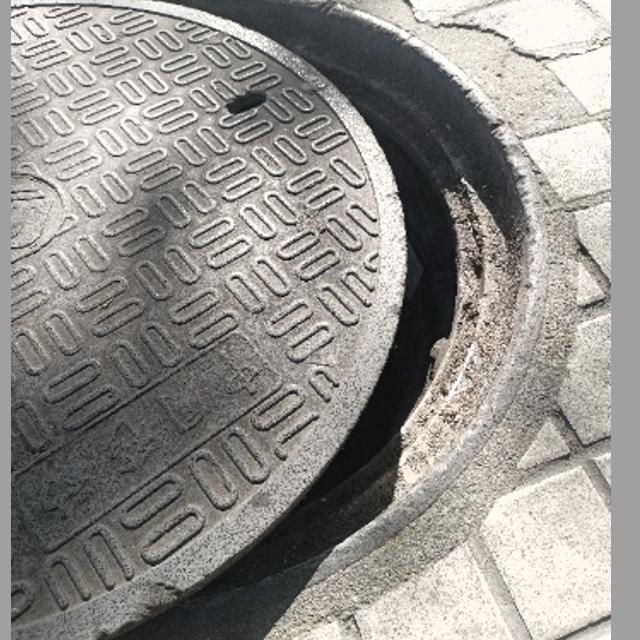uncovered: (12, 0, 542, 640)
